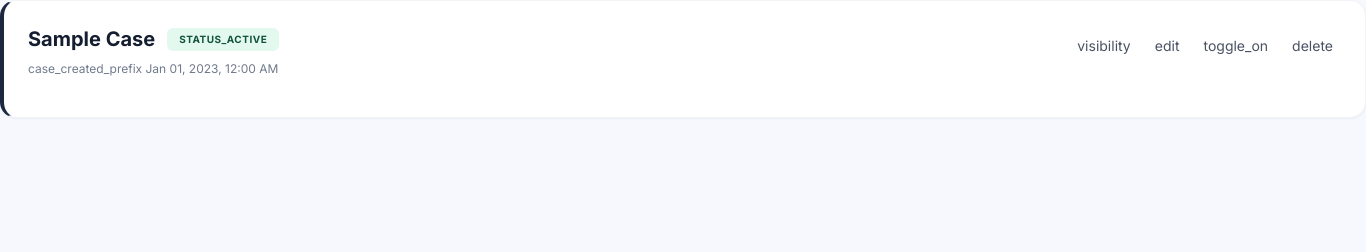
Test case: Case component › opens edit mode when edit button is clicked
The width and height of the screenshot is (1366, 252).
Click the button "edit": (1167, 45) left=1147, top=25, right=1188, bottom=65
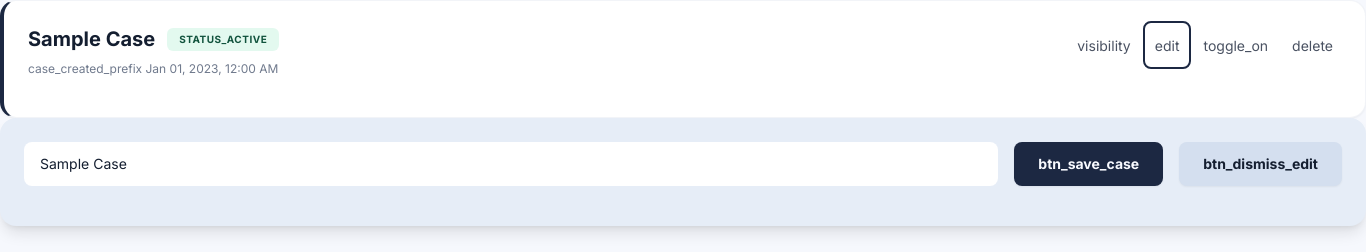
Check: the field with placeholder "case_edit_placeholder" is shown, box left=24, top=142, right=998, bottom=186
Check: the button "btn_save_case" is shown, box left=1014, top=142, right=1163, bottom=186
